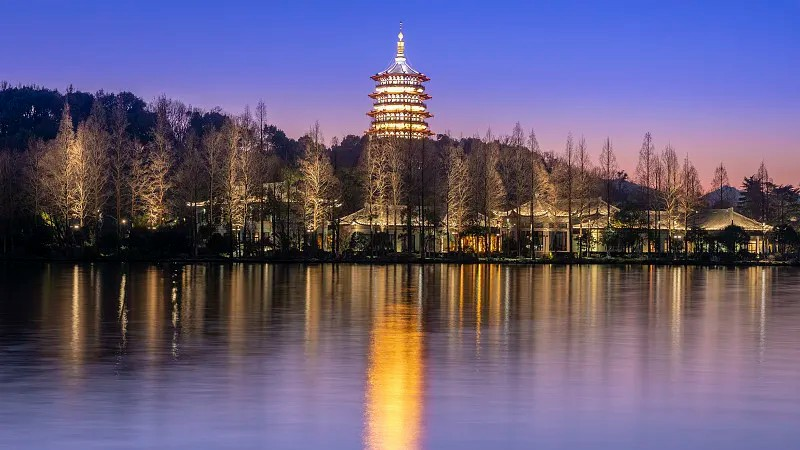Leifeng: (362, 17, 435, 141)
